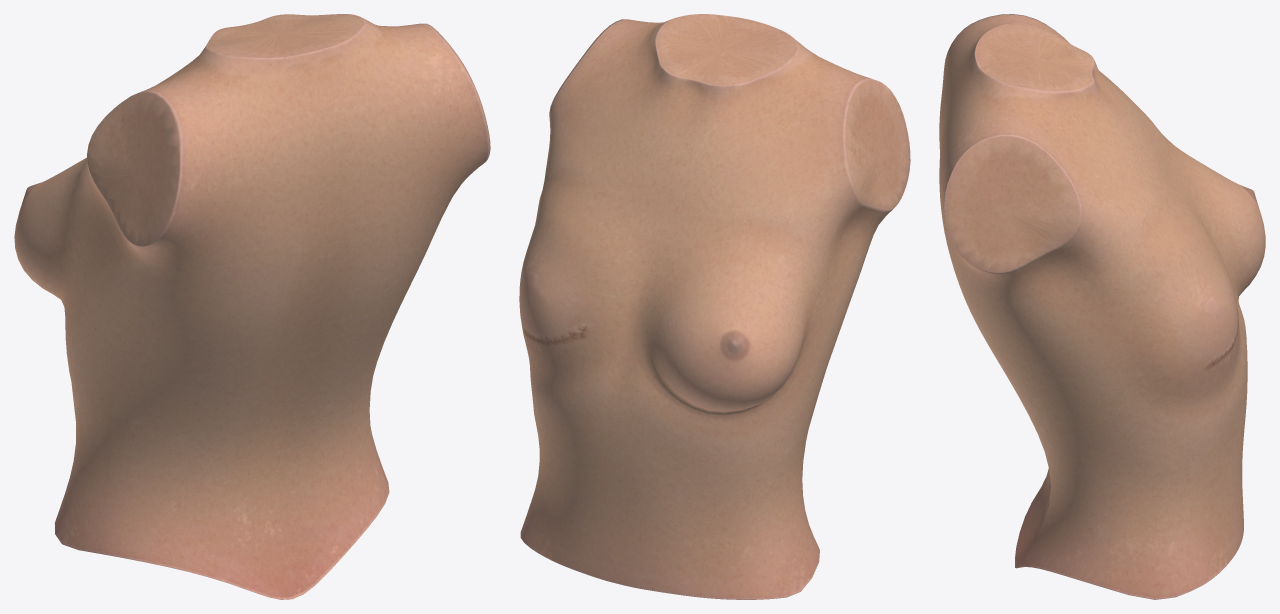
The model's file is bodyWithStitch.glb.
3 renders of one model, left to right at view 1: azimuth 30°, elevation 25°; view 2: azimuth 150°, elevation 25°; view 3: azimuth 270°, elevation 25°, orthographic. The views are drawn at different scales.
Visible parts, largest first — view 1: women_body_stitch; view 2: women_body_stitch; view 3: women_body_stitch.
Part boxes in pixels (box(x1,y1,x2,y2)): women_body_stitch: box(14, 14, 490, 599); women_body_stitch: box(519, 14, 910, 599); women_body_stitch: box(939, 14, 1265, 599).
Bounding box in the file's own units: 25.74 × 40.51 × 23.41.
1 material, 1 textured.
